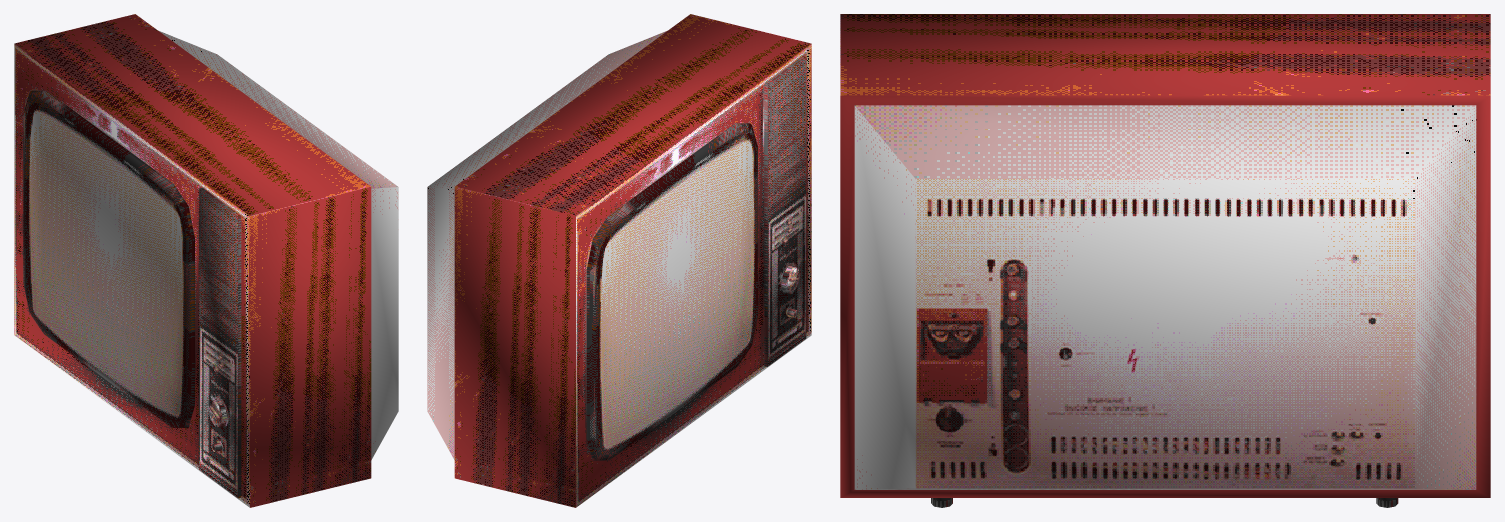
3 views of the same model, side by side, from view 1: azimuth 30°, elevation 25°; view 2: azimuth 150°, elevation 25°; view 3: azimuth 270°, elevation 25° (orthographic). The views are drawn at different scales.
Parts seen in each view (by area): view 1: tv; view 2: tv; view 3: tv.
Boxes of the visible parts, x1,y1,x2,y2 form: tv: (14,14,398,507); tv: (427,14,811,507); tv: (840,14,1490,507).
Bounding box in the file's own units: 0.4201 × 0.6522 × 0.923.
Materials: 1 (1 with a texture image).
